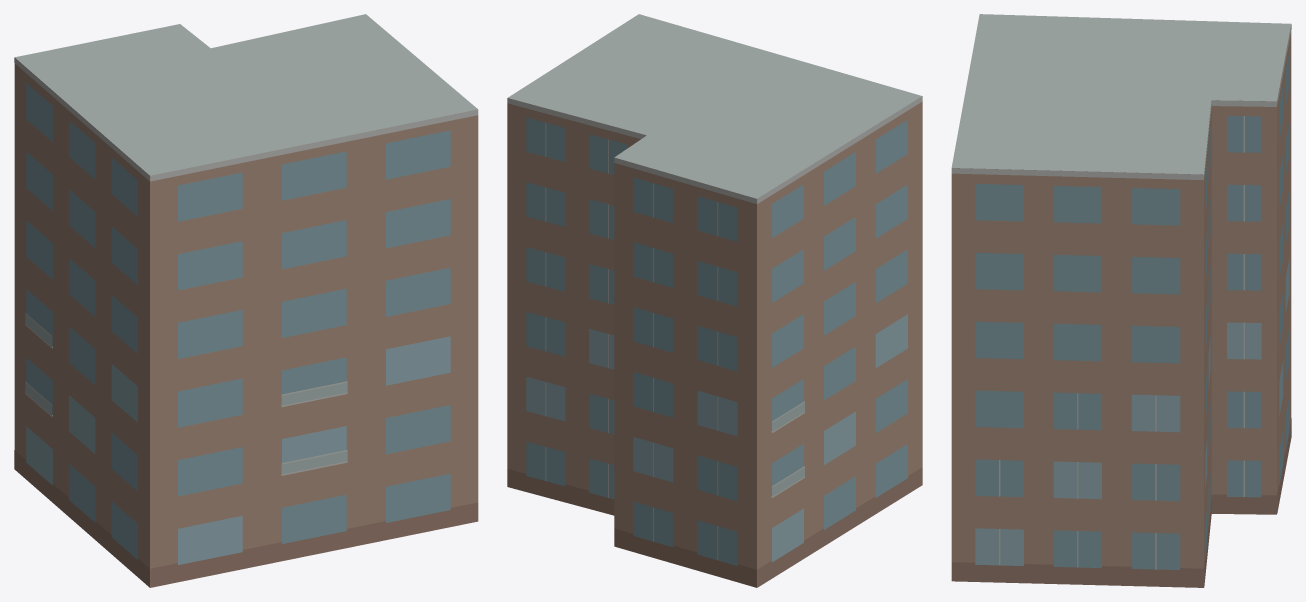
File: survey-upis-32782901.glb
3 renders of one model, left to right at view 1: azimuth 30°, elevation 25°; view 2: azimuth 150°, elevation 25°; view 3: azimuth 270°, elevation 25°, orthographic. The views are drawn at different scales.
Visible parts, largest first — view 1: survey-upis-32782901.tmp; view 2: survey-upis-32782901.tmp; view 3: survey-upis-32782901.tmp.
Part boxes in pixels (x1,y1,x2,y2): survey-upis-32782901.tmp: [14, 14, 478, 587]; survey-upis-32782901.tmp: [507, 14, 922, 587]; survey-upis-32782901.tmp: [951, 14, 1291, 587].
Bounding box in the file's own units: 14.73 × 17.68 × 13.18.
